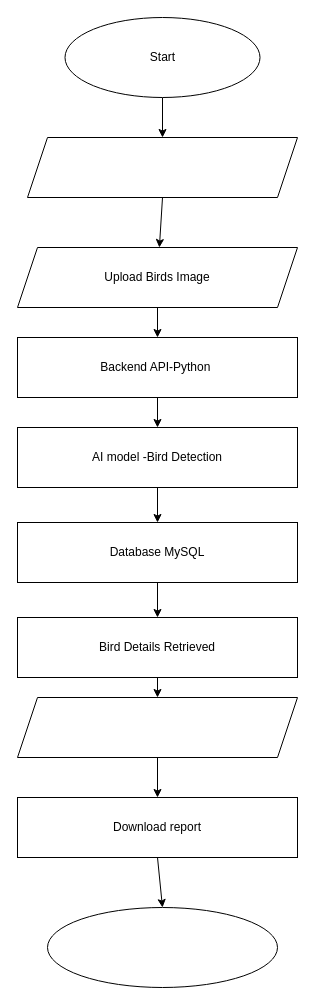
Image size: 315x1005. Some labels were removed from this diagram. The shapes that lost their labels are listed below. From the top down, each one's centre as x and y in pixels, then its label:
At point (162, 167): "Register / Login".
At point (157, 727): "Result Displayes to User".
At point (162, 947): "End".
